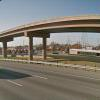Bridge: (4, 12, 95, 51)
